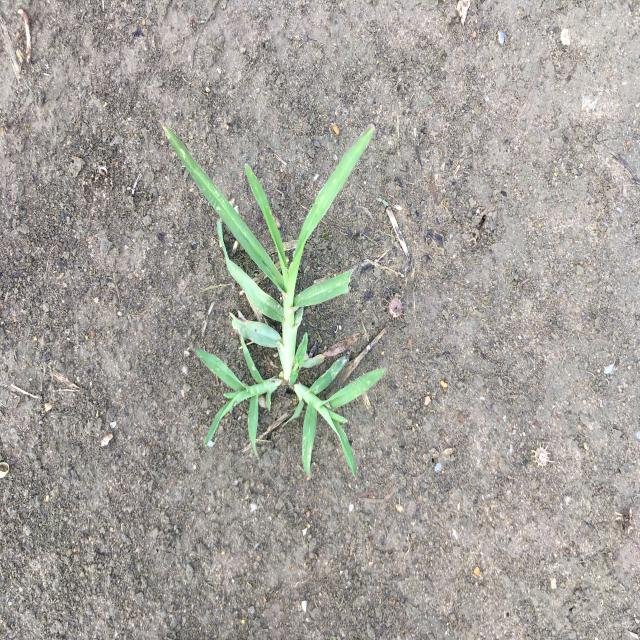Goosegrass: (158, 114, 388, 485)
